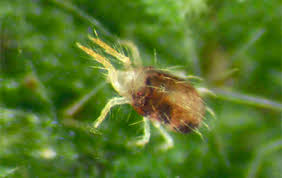Mites: (77, 40, 215, 146)
